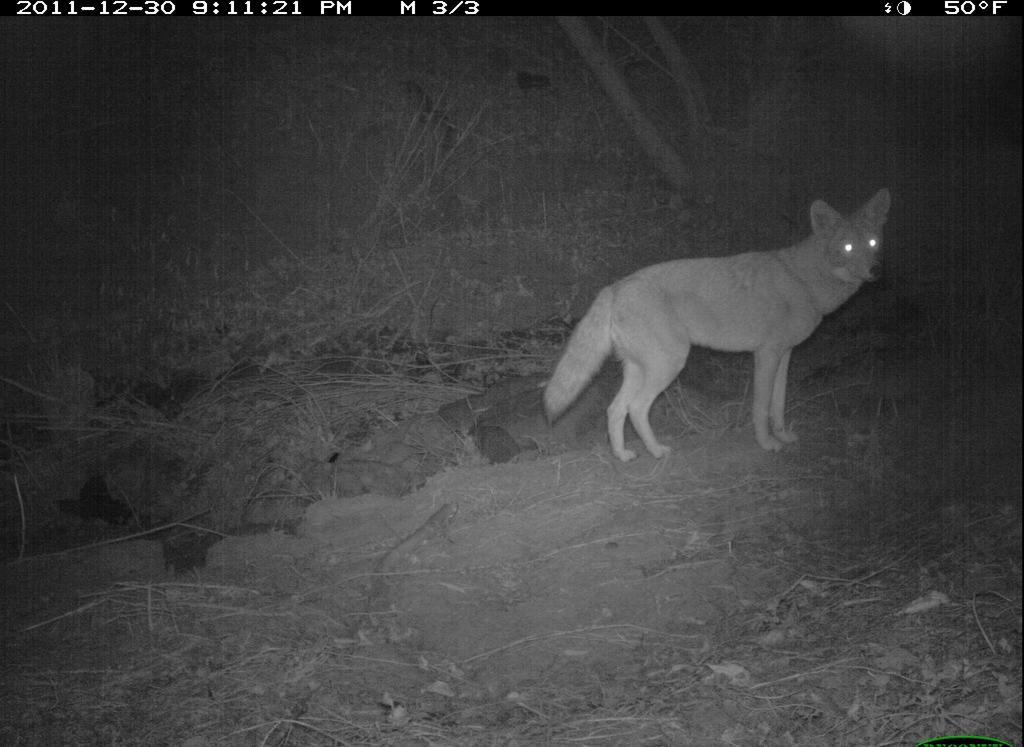coyote: (545, 166, 905, 474)
